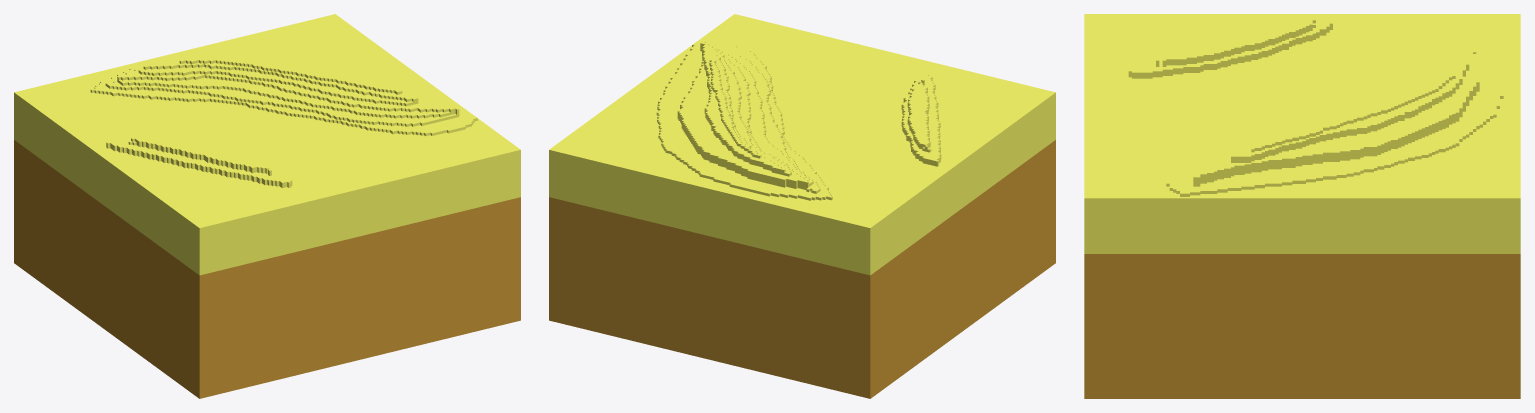
3 renders of one model, left to right at view 1: azimuth 30°, elevation 25°; view 2: azimuth 150°, elevation 25°; view 3: azimuth 270°, elevation 25°, orthographic. The views are drawn at different scales.
Parts seen in each view (by area): view 1: 1O; view 2: 1O; view 3: 1O.
Part boxes in pixels (x1,y1,x2,y2): 1O: [14, 14, 520, 398]; 1O: [549, 14, 1055, 398]; 1O: [1084, 14, 1520, 398].
Size of the model in its own units: 12.8 by 7.2 by 12.8.
1 material, 1 textured.
